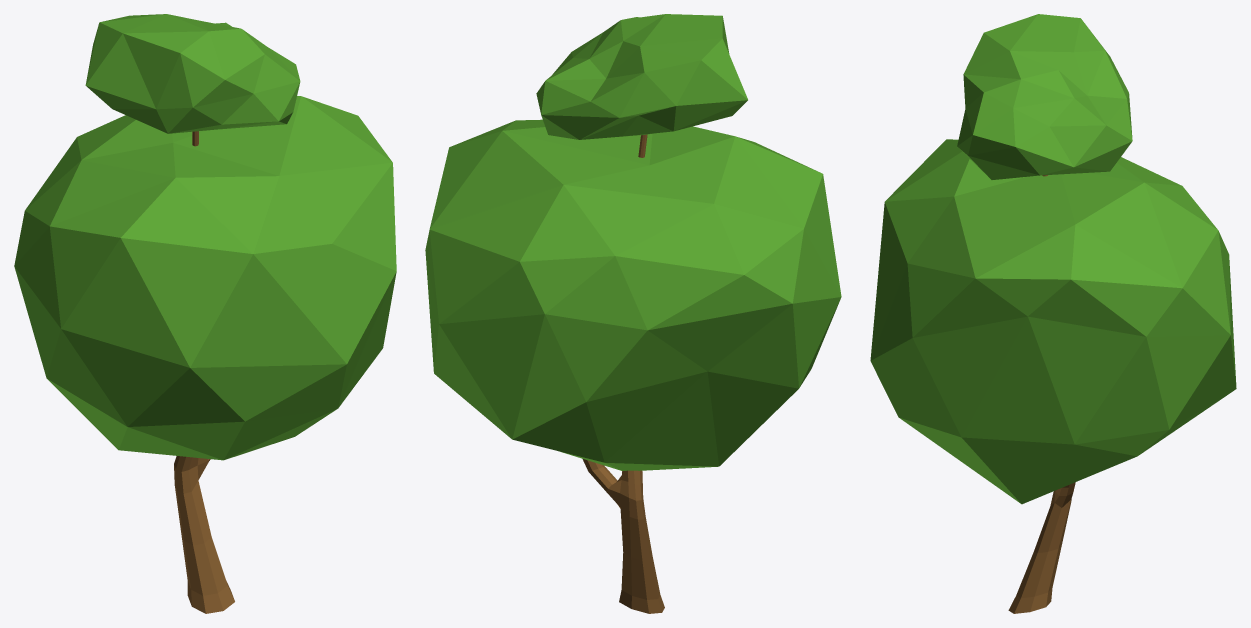
Rendered from Bush_2.fbx.
3 views of the same model, side by side, from view 1: azimuth 30°, elevation 25°; view 2: azimuth 150°, elevation 25°; view 3: azimuth 270°, elevation 25° (orthographic). The views are drawn at different scales.
Visible parts, largest first — view 1: Bush_2; view 2: Bush_2; view 3: Bush_2.
Boxes of the visible parts, x1,y1,x2,y2 form: Bush_2: [14, 14, 396, 613]; Bush_2: [425, 14, 841, 613]; Bush_2: [870, 14, 1236, 613].
Size of the model in its own units: 155 by 254 by 151.
